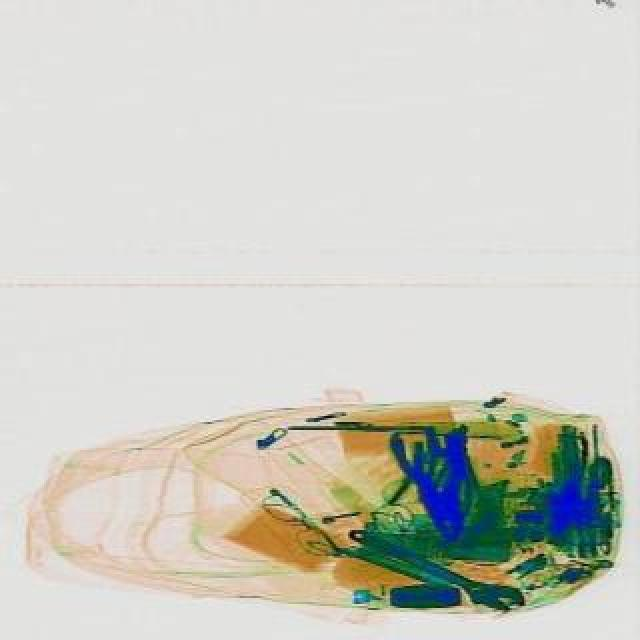scissors: (338, 516, 528, 622)
wrench: (384, 422, 484, 550)
